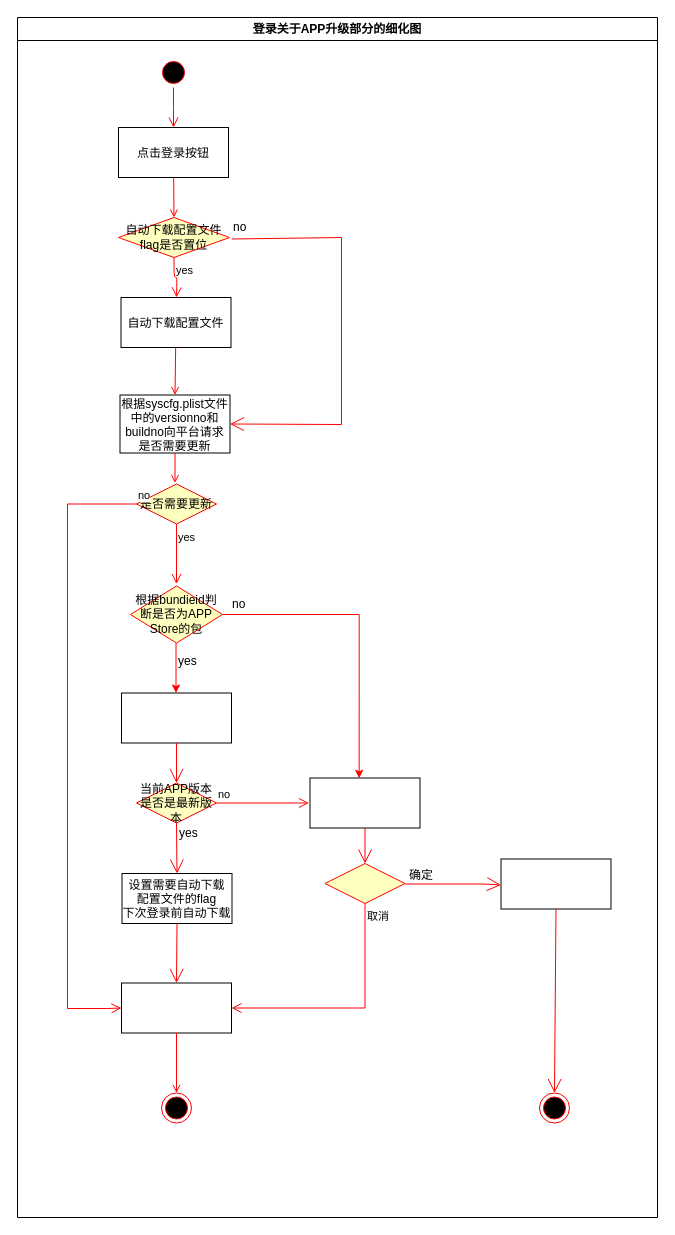
The diagram is 675 pixels wide and 1235 high, and some of its shapes have lost their labels. The box of each missing label's shape, as (x1, y1, x2, y2) in pixels:
弹窗提示用户 更新APP: (309, 777, 420, 828)
根据接口获取 App Store最新版本: (120, 692, 232, 743)
正常登录: (120, 982, 232, 1033)
跳转到App Store 更新APP: (500, 858, 611, 909)
选择按钮: (324, 862, 405, 904)
